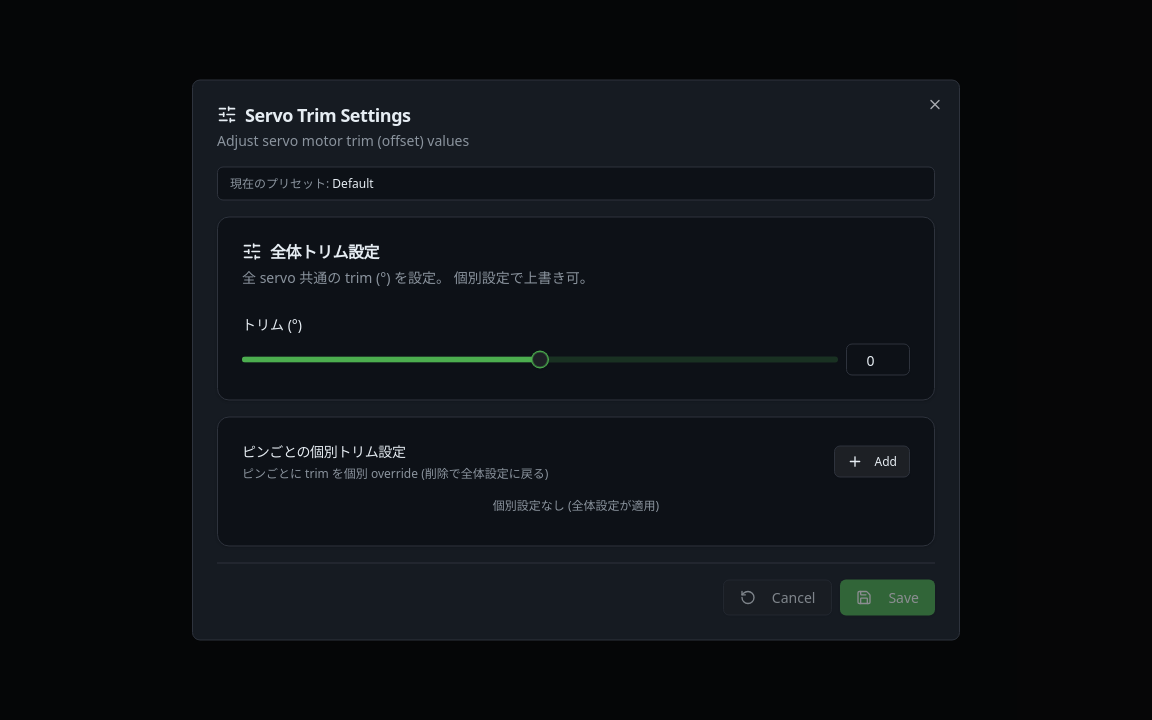
Scenario: ServoTrimDialog Phase 3-E (Session 156 設計変更で reverse 分離後): trim 専用 pinPresetStore 直書き › cancel button restores edited state (= localState reset to current store)
Replace the text in the number field showing "0" with "15" at point(878, 360), box left=846, top=344, right=910, bottom=376
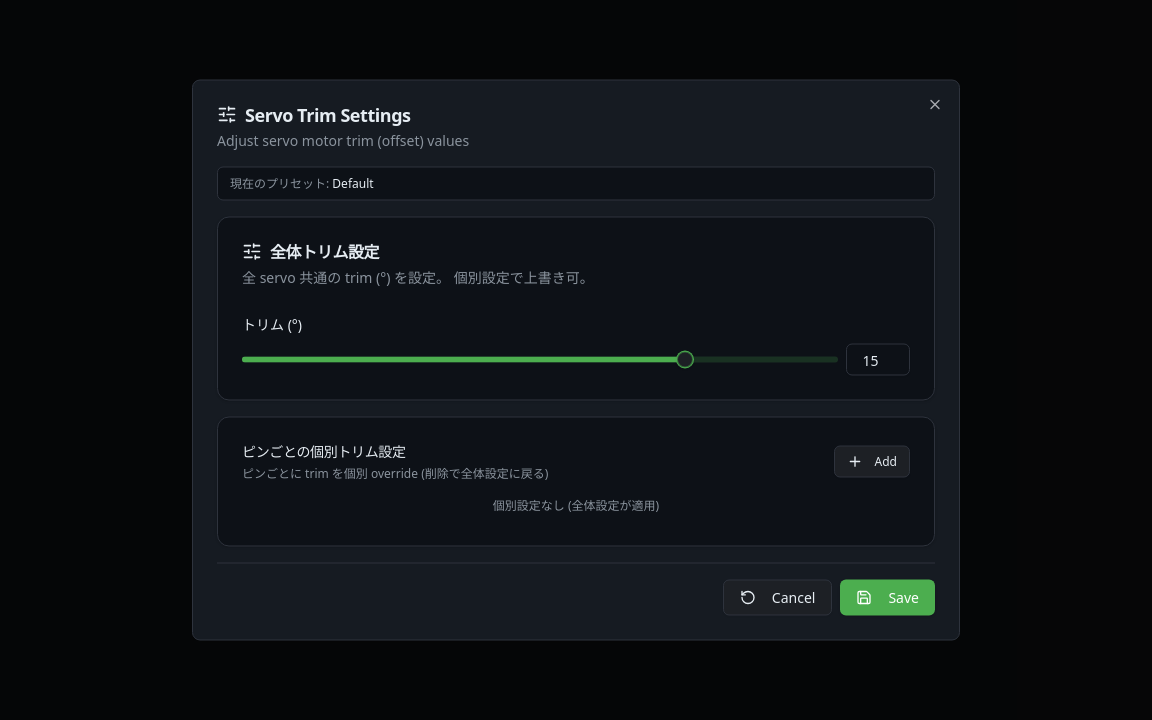
Check: the button "Cancel" is enabled
Click the button "Cancel".
click(778, 598)  # box left=723, top=580, right=832, bottom=616
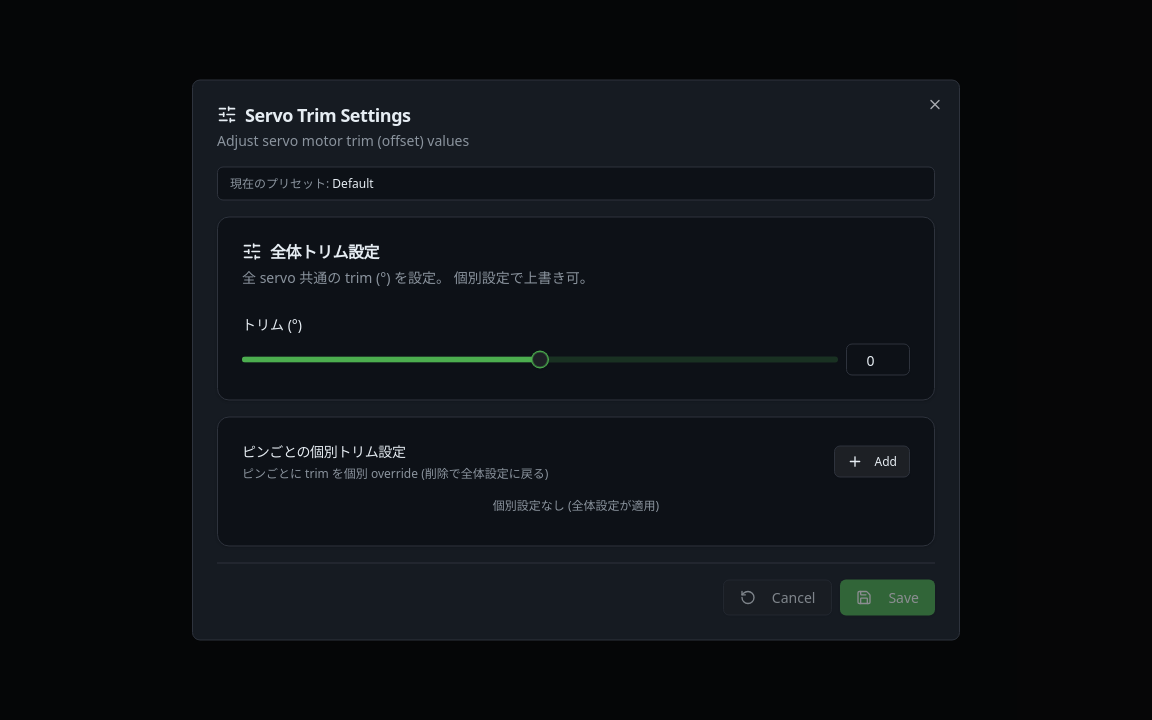
Check: the button "Cancel" is disabled, box left=723, top=580, right=832, bottom=616
